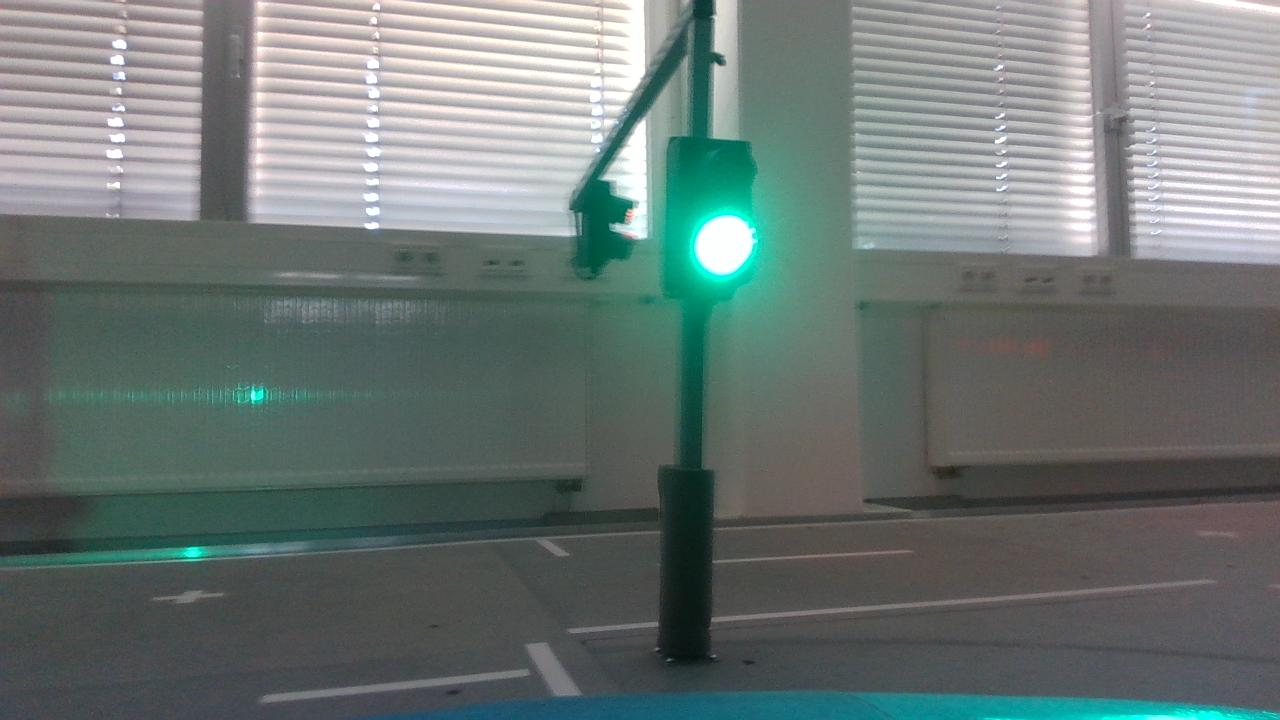traffic_light_green: (650, 119, 772, 319)
